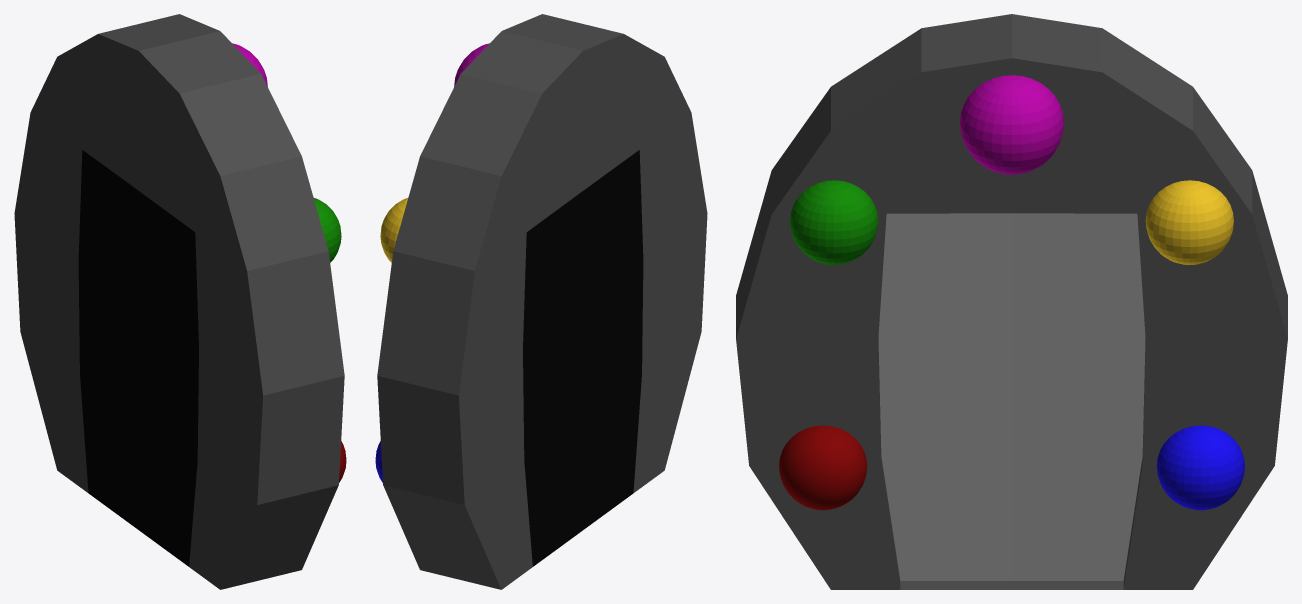
The model's file is 宝石扉(光ってない）.fbx.
3 renders of one model, left to right at view 1: azimuth 30°, elevation 25°; view 2: azimuth 150°, elevation 25°; view 3: azimuth 270°, elevation 25°, orthographic. The views are drawn at different scales.
Parts seen in each view (by area): view 1: Cube, Cube.004; view 2: Cube, Cube.001; view 3: Cube, Cube.007, Cube.006, Cube.002, Cube.001, Cube.004, Cube.003, Cube.005.
Part boxes in pixels (x1=…): Cube: x1=14, y1=14, x2=344, y2=589; Cube.004: x1=314, y1=198, x2=341, y2=262; Cube: x1=377, y1=14, x2=707, y2=589; Cube.001: x1=380, y1=198, x2=407, y2=262; Cube: x1=736, y1=14, x2=1287, y2=589; Cube.007: x1=878, y1=213, x2=1014, y2=580; Cube.006: x1=1013, y1=213, x2=1145, y2=580; Cube.002: x1=960, y1=75, x2=1063, y2=174; Cube.001: x1=1145, y1=180, x2=1233, y2=264; Cube.004: x1=790, y1=180, x2=878, y2=264; Cube.003: x1=779, y1=425, x2=867, y2=510; Cube.005: x1=1156, y1=425, x2=1244, y2=510.
Size of the model in its own units: 260 by 969 by 912.
